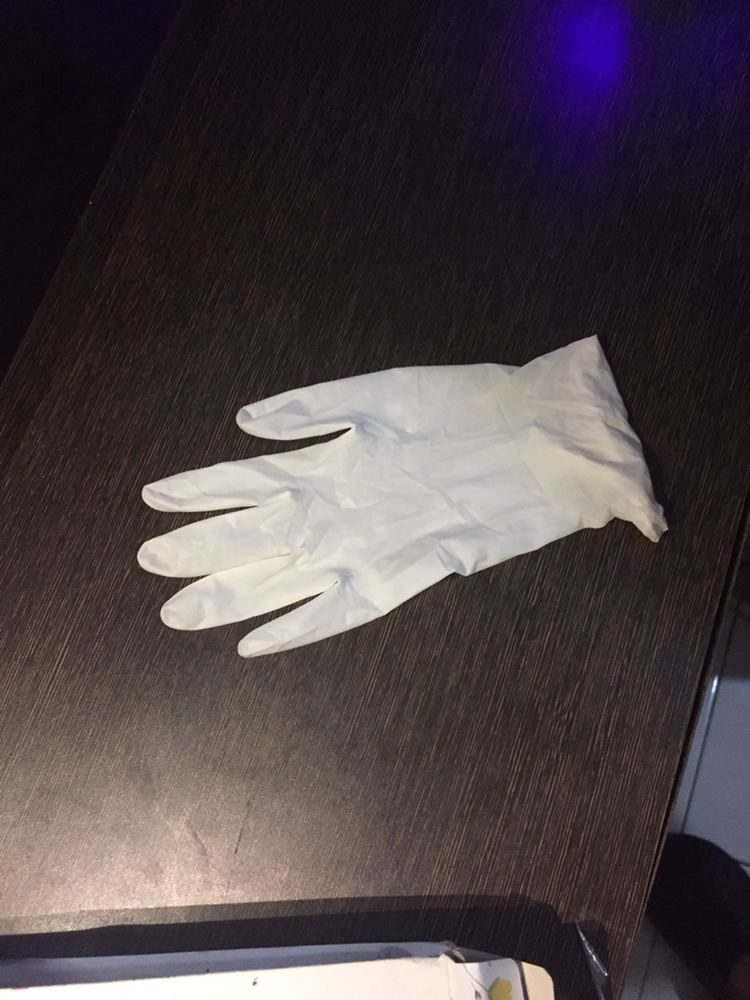glove: (95, 332, 684, 666)
